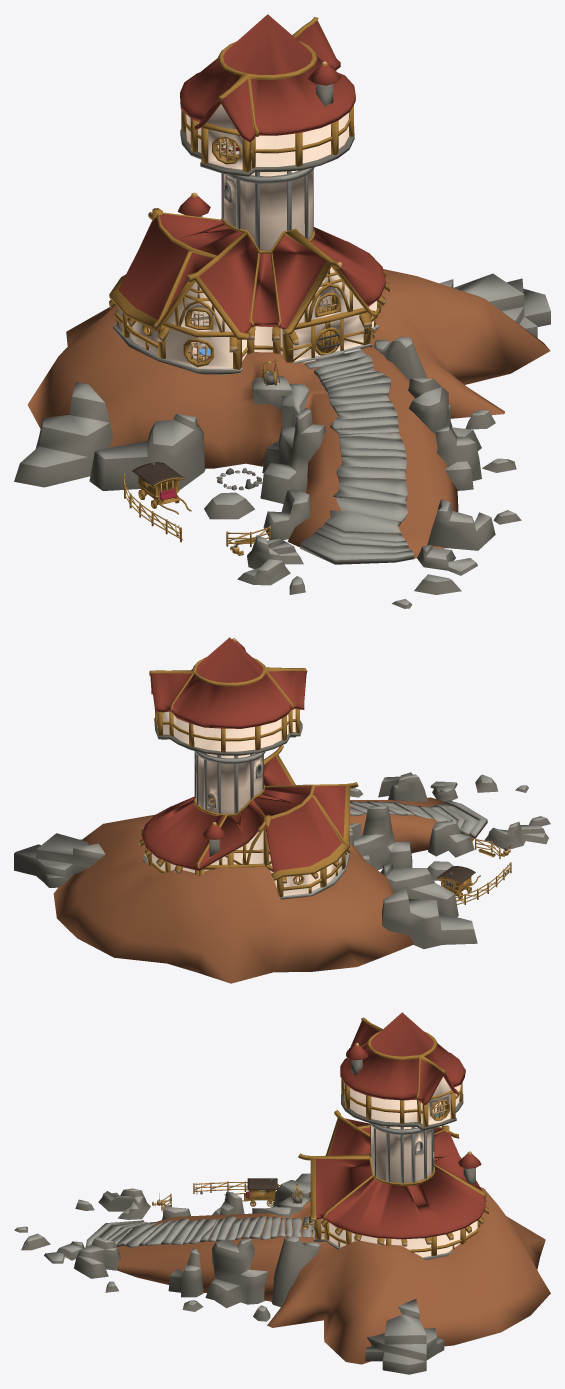
The model's file is SHOP_wizardtower_08export.fbx.
3 renders of one model, top to bottom at view 1: azimuth 30°, elevation 25°; view 2: azimuth 150°, elevation 25°; view 3: azimuth 270°, elevation 25°, orthographic. The views are drawn at different scales.
Parts seen in each view (by area): view 1: Empty_Mesh_6, Empty_Mesh_5, Empty_Mesh_7, Empty_Mesh_3, Empty_Mesh_4, Empty_Mesh_1, Empty_Mesh_9; view 2: Empty_Mesh_6, Empty_Mesh_5, Empty_Mesh_7, Empty_Mesh_3, Empty_Mesh_4, Empty_Mesh_1, Empty_Mesh; view 3: Empty_Mesh_6, Empty_Mesh_5, Empty_Mesh_7, Empty_Mesh_3, Empty_Mesh_4, Empty_Mesh_1, Empty_Mesh_9.
Part boxes in pixels (x1,y1,x2,y2): Empty_Mesh_6: (14,208,550,608); Empty_Mesh_5: (109,212,385,339); Empty_Mesh_7: (180,14,355,141); Empty_Mesh_3: (180,104,354,176); Empty_Mesh_4: (221,139,314,250); Empty_Mesh_1: (123,357,279,555); Empty_Mesh_9: (217,61,341,159); Empty_Mesh_6: (14,772,550,983); Empty_Mesh_5: (142,745,358,880); Empty_Mesh_7: (149,637,307,728); Empty_Mesh_3: (154,709,302,755); Empty_Mesh_4: (161,736,296,814); Empty_Mesh_1: (436,838,511,904); Empty_Mesh: (202,822,226,856); Empty_Mesh_6: (14,1125,550,1374); Empty_Mesh_5: (298,1110,486,1239); Empty_Mesh_7: (340,1012,465,1105); Empty_Mesh_3: (341,1076,463,1130); Empty_Mesh_4: (369,1123,434,1183); Empty_Mesh_1: (152,1178,302,1214); Empty_Mesh_9: (346,1043,445,1117).
Bounding box in the file's own units: 272 × 167 × 306.
